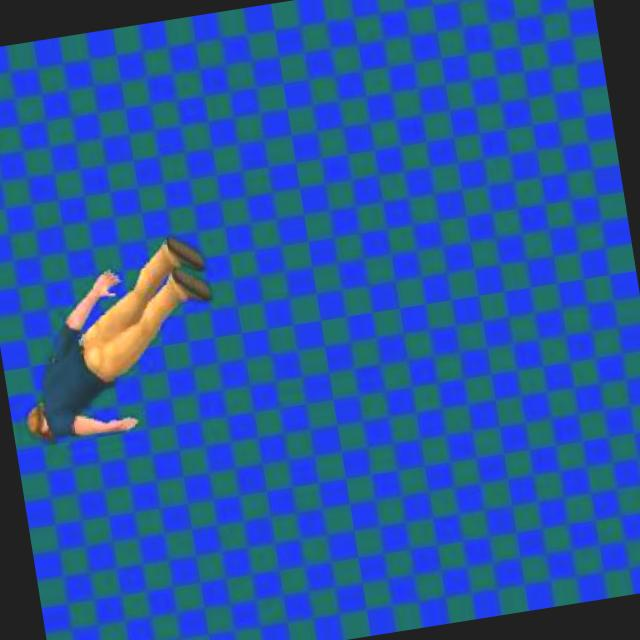Person: (1, 228, 236, 450)
